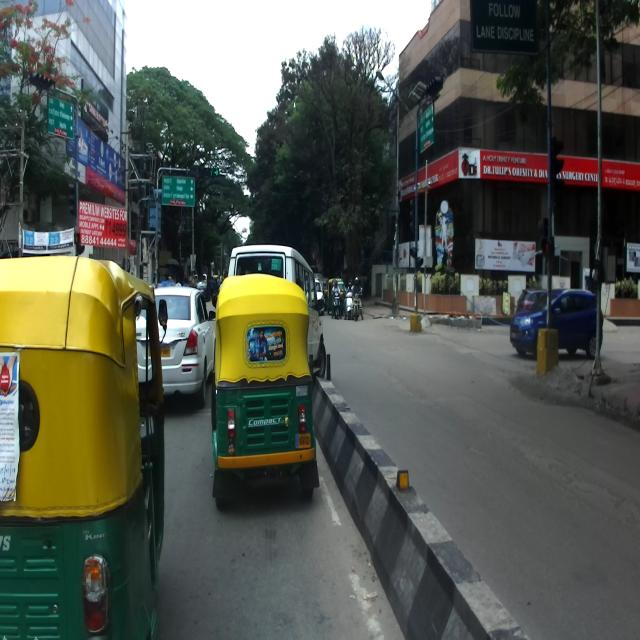auto ahead at: (2, 245, 167, 640), (214, 278, 316, 492)
